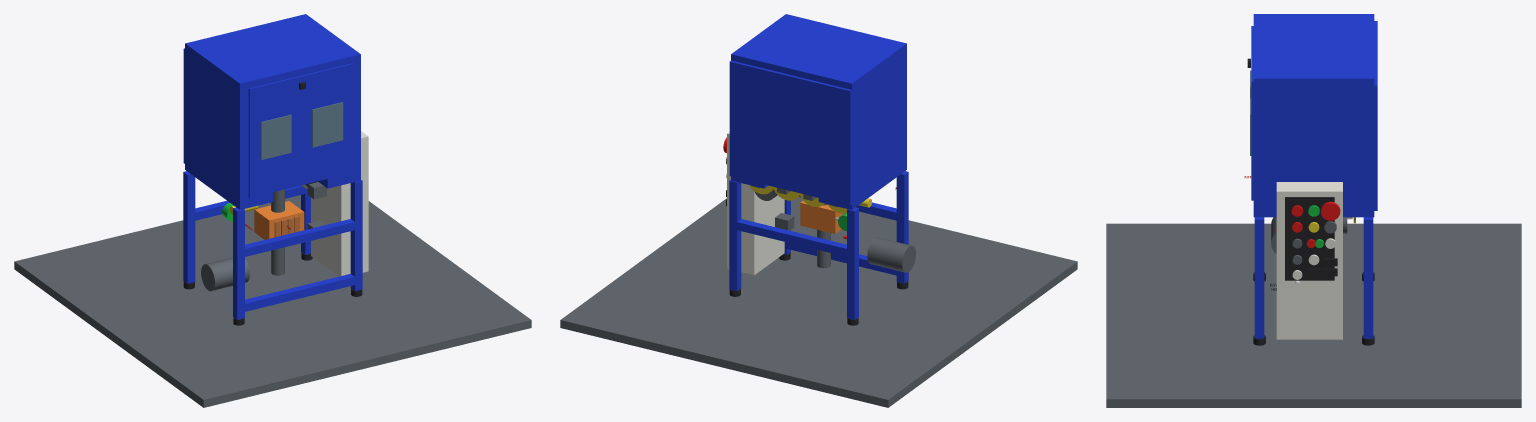
Rendered from machine-a.glb.
3 renders of one model, left to right at view 1: azimuth 30°, elevation 25°; view 2: azimuth 150°, elevation 25°; view 3: azimuth 270°, elevation 25°, orthographic. The views are drawn at different scales.
Visible parts, largest first — view 1: FACTORY_FLOOR, UPPER_ENCLOSURE_LEFT, UPPER_ENCLOSURE_TOP, DOOR_LEFT, DOOR_RIGHT, ELECTRICAL_CABINET, LOWER_CROSSBAR_BOTTOM_FRONT, LOWER_CROSSBAR_FRONT, FRAME_POST_02, UPPER_ENCLOSURE_RIGHT, FRAME_POST_01, SAFETY_WINDOW_LEFT (+5 smaller); view 2: FACTORY_FLOOR, REAR_PANEL, UPPER_ENCLOSURE_TOP, UPPER_ENCLOSURE_LEFT, ELECTRICAL_CABINET, LOWER_CROSSBAR_REAR, FRAME_POST_02, FRAME_POST_04, OPTIONAL_EXTERNAL_WINDER, FRAME_POST_01, THERMOS_FIXATION_UNIT, LOWER_CROSSBAR_BOTTOM_FRONT; view 3: FACTORY_FLOOR, UPPER_ENCLOSURE_RIGHT, UPPER_ENCLOSURE_TOP, ELECTRICAL_CABINET, CONTROL_PANEL, FRAME_POST_03, FRAME_POST_04, REAR_PANEL, DOOR_RIGHT.
Part boxes in pixels (bbox=[...]): FACTORY_FLOOR: bbox=[14, 195, 531, 407]; UPPER_ENCLOSURE_LEFT: bbox=[185, 46, 273, 209]; UPPER_ENCLOSURE_TOP: bbox=[185, 14, 360, 90]; DOOR_LEFT: bbox=[248, 75, 301, 197]; DOOR_RIGHT: bbox=[300, 63, 353, 185]; ELECTRICAL_CABINET: bbox=[311, 131, 368, 276]; LOWER_CROSSBAR_BOTTOM_FRONT: bbox=[238, 274, 361, 312]; LOWER_CROSSBAR_FRONT: bbox=[239, 219, 361, 257]; FRAME_POST_02: bbox=[183, 171, 195, 283]; UPPER_ENCLOSURE_RIGHT: bbox=[318, 57, 360, 188]; FRAME_POST_01: bbox=[233, 207, 244, 319]; SAFETY_WINDOW_LEFT: bbox=[260, 114, 291, 160]; FACTORY_FLOOR: bbox=[560, 197, 1077, 407]; REAR_PANEL: bbox=[729, 60, 851, 205]; UPPER_ENCLOSURE_TOP: bbox=[731, 14, 906, 90]; UPPER_ENCLOSURE_LEFT: bbox=[818, 46, 906, 209]; ELECTRICAL_CABINET: bbox=[727, 132, 784, 275]; LOWER_CROSSBAR_REAR: bbox=[730, 219, 853, 257]; FRAME_POST_02: bbox=[847, 207, 858, 319]; FRAME_POST_04: bbox=[729, 180, 741, 291]; OPTIONAL_EXTERNAL_WINDER: bbox=[867, 237, 915, 272]; FRAME_POST_01: bbox=[896, 171, 908, 283]; THERMOS_FIXATION_UNIT: bbox=[800, 201, 844, 233]; LOWER_CROSSBAR_BOTTOM_FRONT: bbox=[784, 242, 903, 275]; FACTORY_FLOOR: bbox=[1106, 223, 1521, 407]; UPPER_ENCLOSURE_RIGHT: bbox=[1253, 81, 1374, 217]; UPPER_ENCLOSURE_TOP: bbox=[1253, 14, 1374, 87]; ELECTRICAL_CABINET: bbox=[1276, 182, 1342, 339]; CONTROL_PANEL: bbox=[1285, 197, 1334, 280]; FRAME_POST_03: bbox=[1254, 217, 1264, 338]; FRAME_POST_04: bbox=[1363, 217, 1373, 338]; REAR_PANEL: bbox=[1373, 21, 1377, 210]; DOOR_RIGHT: bbox=[1251, 53, 1253, 200].
Size of the model in its own units: 3 by 2.18 by 3.
